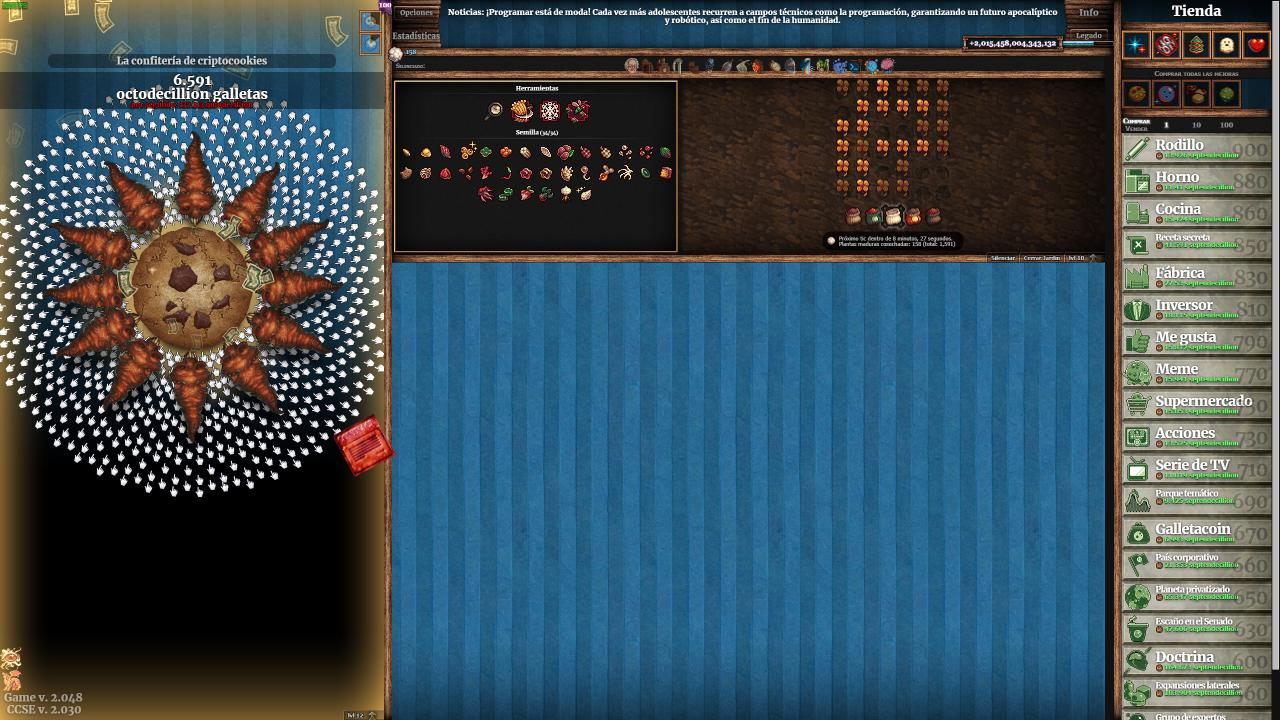RedCartridge: (332, 413, 398, 478)
